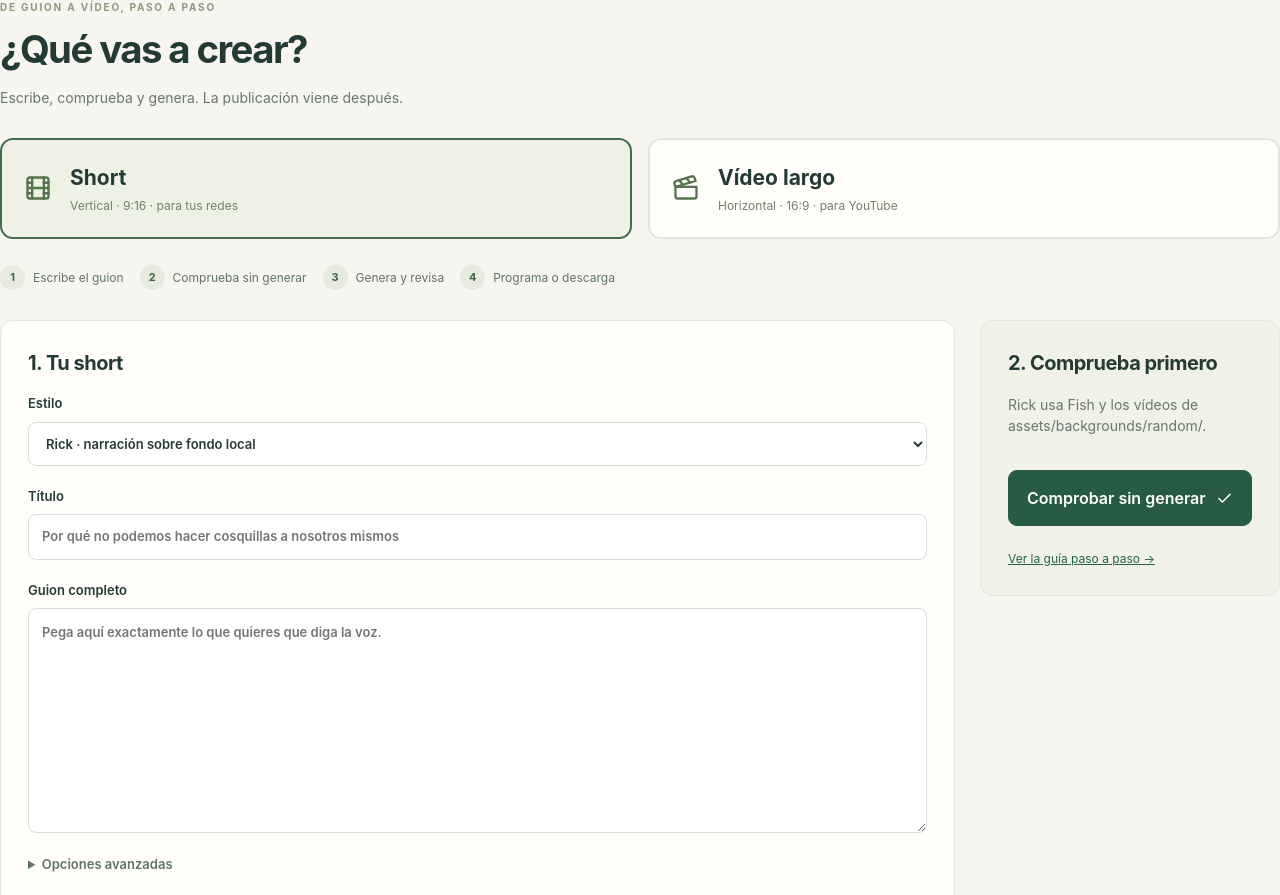
it: guided studio › invalidates the preview when the script changes
Type "Mi short" into the field labelled "Título".
click(478, 537); type("Mi short")  # box [28,514,927,560]
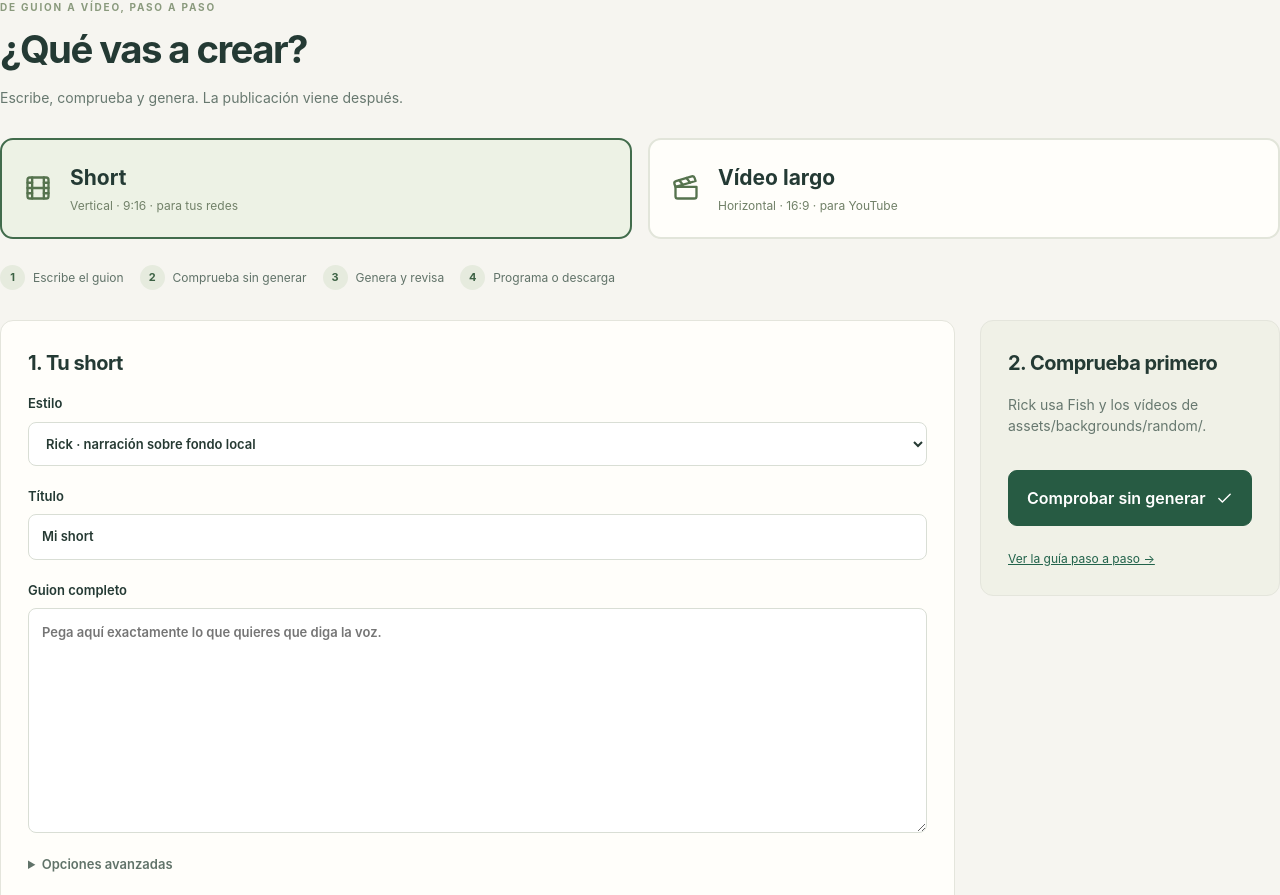
Type "Una narración suficientemente larga para probar el vídeo." into the text box labelled "Guion completo".
click(478, 720); type("Una narración suficientemente larga para probar el vídeo.")  # box [28,608,927,833]
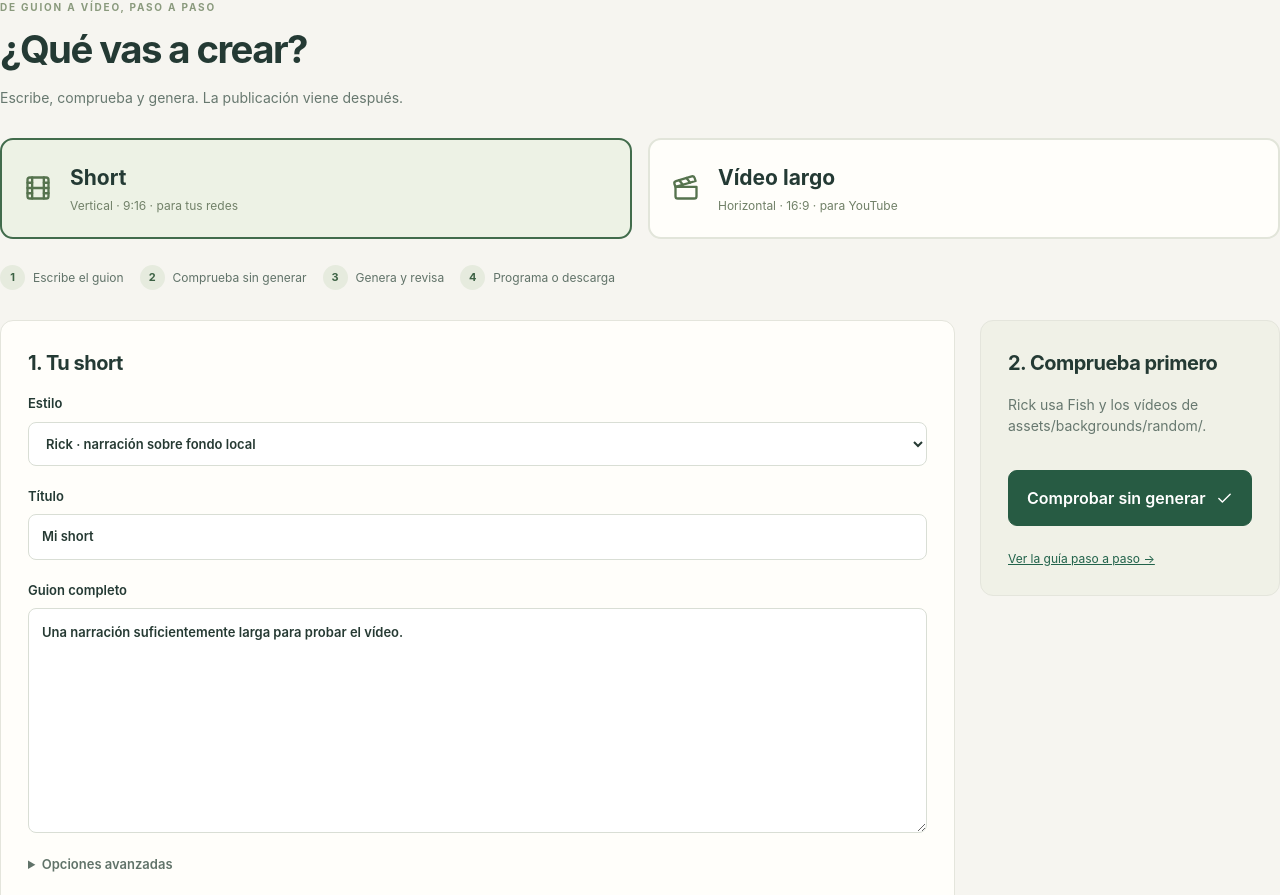
Click the button "Comprobar sin generar".
click(1130, 498)  # box [1008,470,1252,526]
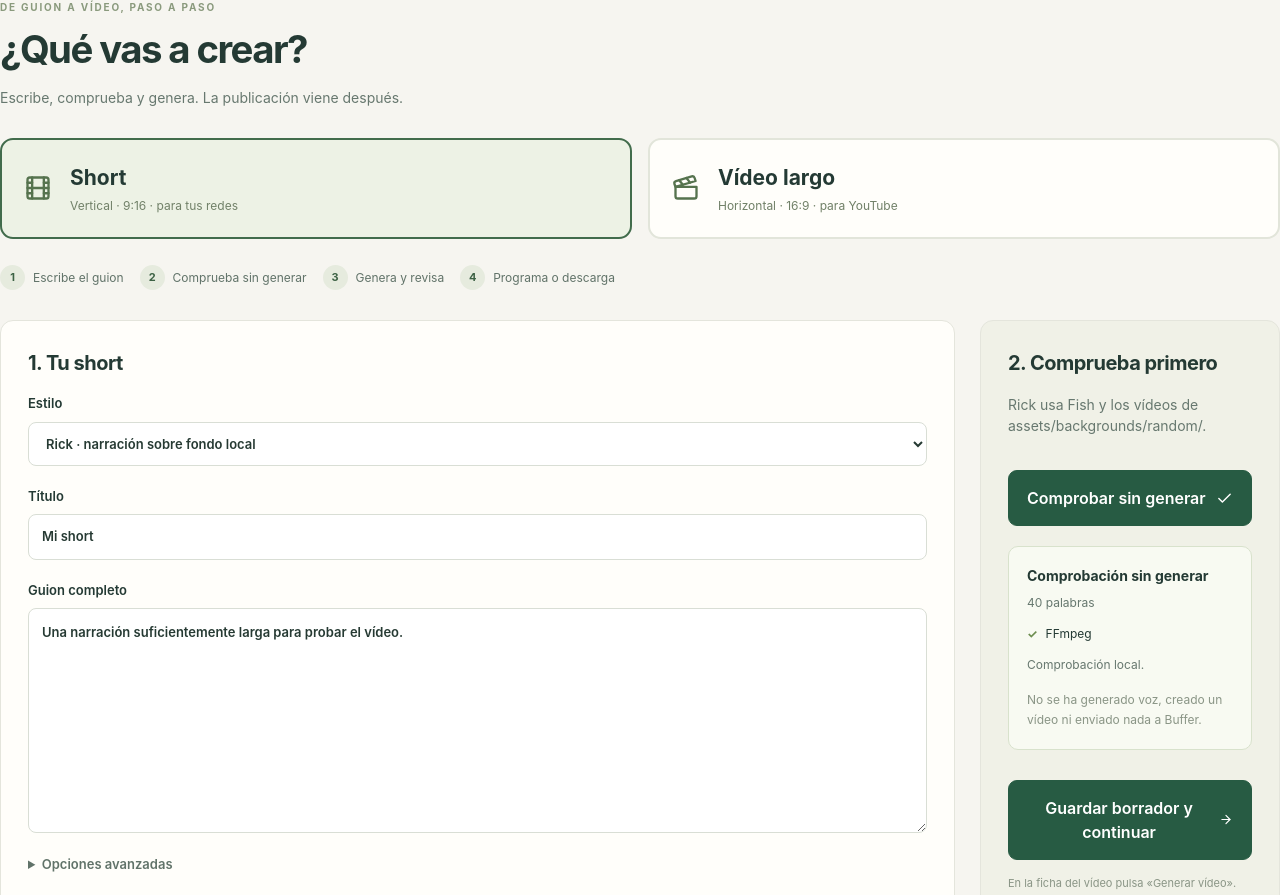
Expected: the heading "Comprobación sin generar" is shown, [1027,565,1233,586]
Replace the text in the text box labelled "Guion completo" with "Un guion diferente que necesita una nueva revisión." at (478,720), box [28,608,927,833]
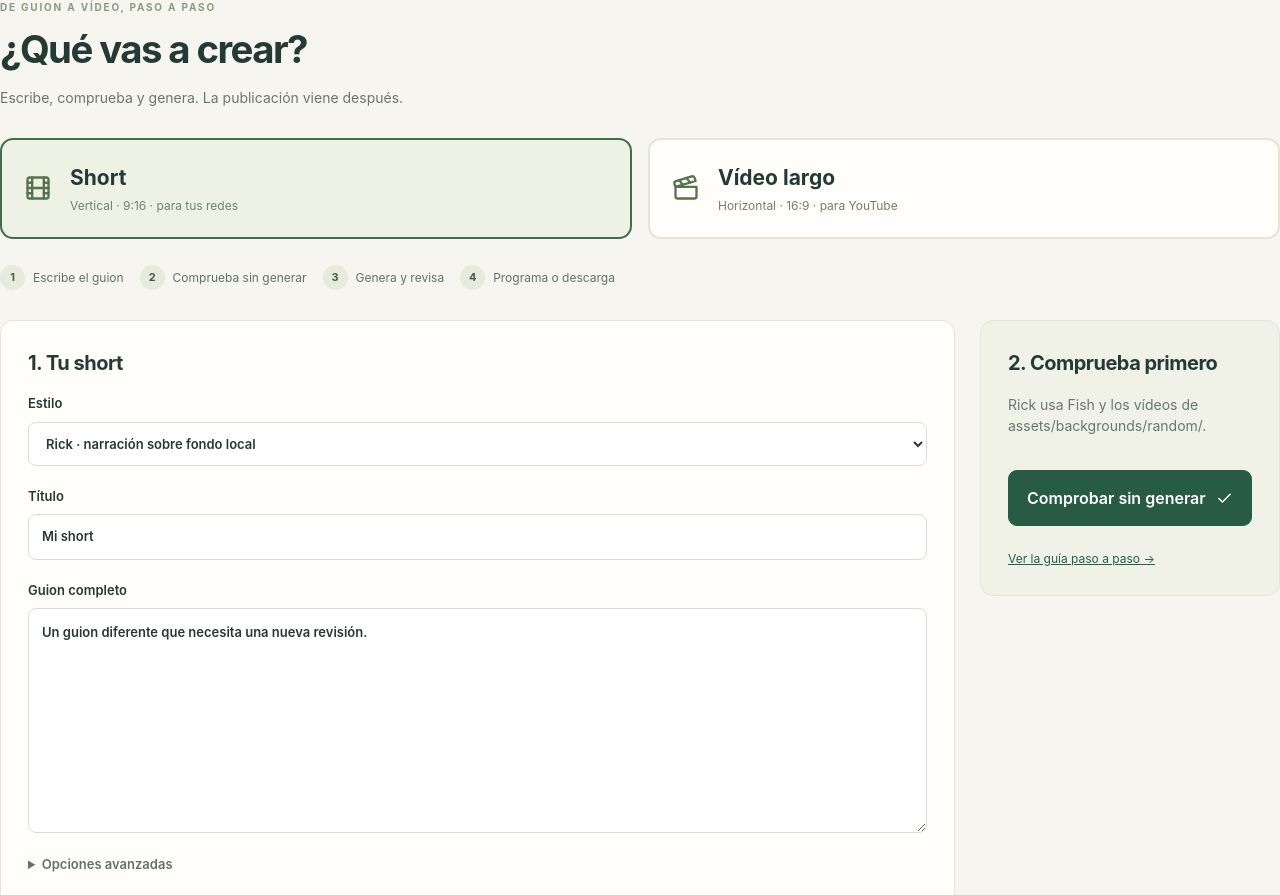
Expected: the button "Guardar borrador y continuar" is gone
